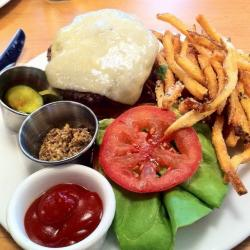burger: (47, 17, 157, 108)
fries: (161, 27, 250, 159)
ketchup: (12, 177, 107, 247)
salad: (115, 171, 227, 248)
